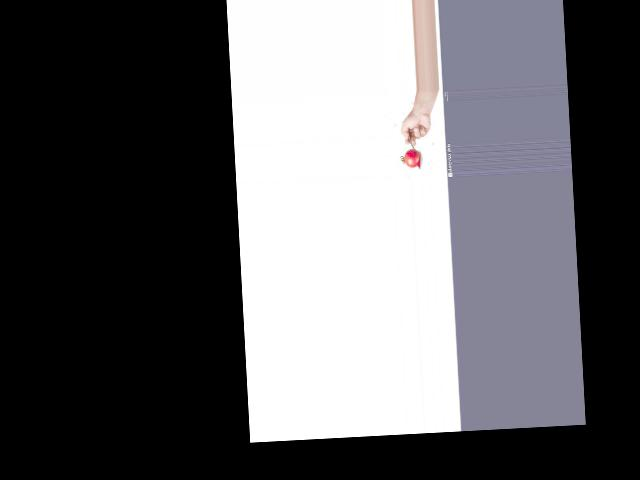tomato: (403, 148, 420, 167)
